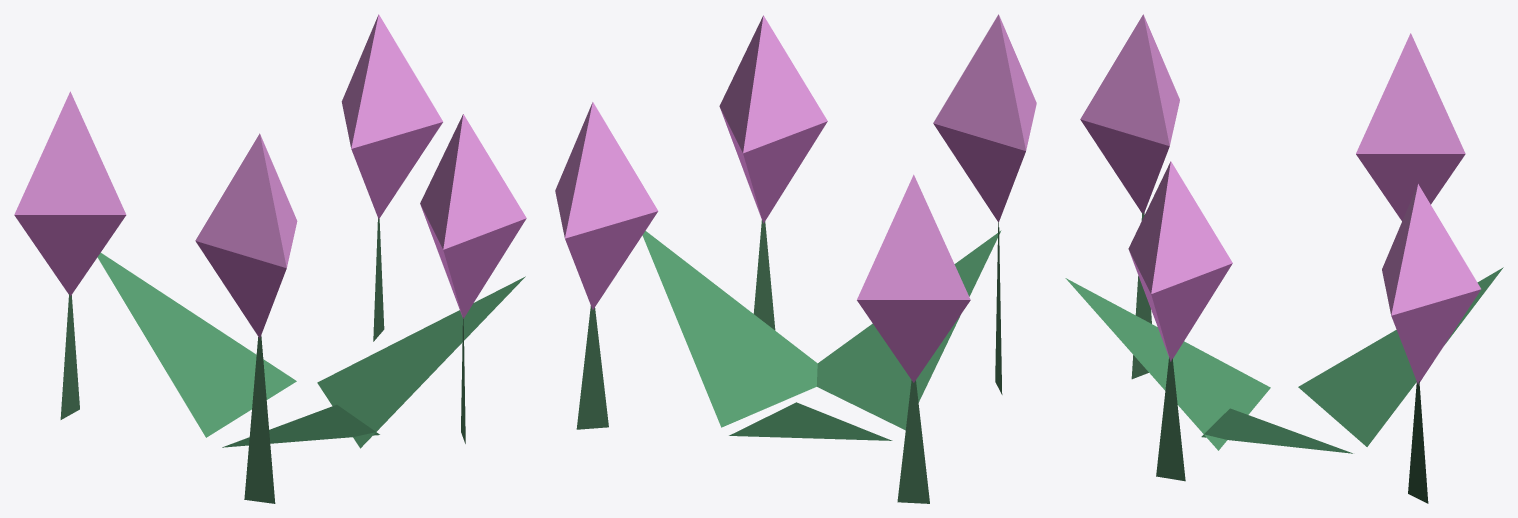
The model's file is plant_fireweed_c.obj.
3 views of the same model, side by side, from view 1: azimuth 30°, elevation 25°; view 2: azimuth 150°, elevation 25°; view 3: azimuth 270°, elevation 25° (orthographic). The views are drawn at different scales.
Visible parts, largest first — view 1: plant_fireweed_c_13, plant_fireweed_c_12, plant_fireweed_c_4, plant_fireweed_c_1, plant_fireweed_c_7, plant_fireweed_c_10, plant_fireweed_c_11, plant_fireweed_c_8, plant_fireweed_c_2, plant_fireweed_c_5, plant_fireweed_c_0, plant_fireweed_c_14 (+2 smaller); view 2: plant_fireweed_c_12, plant_fireweed_c_4, plant_fireweed_c_14, plant_fireweed_c_1, plant_fireweed_c_7, plant_fireweed_c_10, plant_fireweed_c_11, plant_fireweed_c_8, plant_fireweed_c_2, plant_fireweed_c_5, plant_fireweed_c_13, plant_fireweed_c_9 (+3 smaller); view 3: plant_fireweed_c_14, plant_fireweed_c_13, plant_fireweed_c_4, plant_fireweed_c_1, plant_fireweed_c_7, plant_fireweed_c_10, plant_fireweed_c_11, plant_fireweed_c_8, plant_fireweed_c_2, plant_fireweed_c_5, plant_fireweed_c_12, plant_fireweed_c_3 (+2 smaller).
Boxes of the visible parts, <box> form: plant_fireweed_c_13: <box>97,253,296,437</box>; plant_fireweed_c_12: <box>317,276,525,448</box>; plant_fireweed_c_4: <box>420,114,526,249</box>; plant_fireweed_c_1: <box>195,133,297,268</box>; plant_fireweed_c_7: <box>341,14,442,148</box>; plant_fireweed_c_10: <box>14,91,126,214</box>; plant_fireweed_c_11: <box>14,215,126,296</box>; plant_fireweed_c_8: <box>351,122,442,219</box>; plant_fireweed_c_2: <box>195,241,286,338</box>; plant_fireweed_c_5: <box>420,205,526,318</box>; plant_fireweed_c_0: <box>244,335,275,503</box>; plant_fireweed_c_14: <box>222,404,379,447</box>; plant_fireweed_c_12: <box>642,231,817,427</box>; plant_fireweed_c_4: <box>719,15,827,153</box>; plant_fireweed_c_14: <box>816,230,1001,430</box>; plant_fireweed_c_1: <box>933,14,1036,150</box>; plant_fireweed_c_7: <box>555,102,657,238</box>; plant_fireweed_c_10: <box>857,174,970,299</box>; plant_fireweed_c_11: <box>857,300,970,382</box>; plant_fireweed_c_8: <box>565,211,657,309</box>; plant_fireweed_c_2: <box>933,123,1025,222</box>; plant_fireweed_c_5: <box>720,108,827,223</box>; plant_fireweed_c_13: <box>729,402,892,440</box>; plant_fireweed_c_9: <box>897,380,929,503</box>; plant_fireweed_c_14: <box>1065,278,1270,450</box>; plant_fireweed_c_13: <box>1298,267,1503,446</box>; plant_fireweed_c_4: <box>1128,161,1232,293</box>; plant_fireweed_c_1: <box>1080,14,1179,146</box>; plant_fireweed_c_7: <box>1382,184,1480,315</box>; plant_fireweed_c_10: <box>1356,33,1465,153</box>; plant_fireweed_c_11: <box>1356,154,1465,221</box>; plant_fireweed_c_8: <box>1391,289,1480,384</box>; plant_fireweed_c_2: <box>1080,119,1169,214</box>; plant_fireweed_c_5: <box>1129,251,1232,361</box>; plant_fireweed_c_12: <box>1201,408,1352,453</box>; plant_fireweed_c_3: <box>1156,357,1185,481</box>.
Size of the model in its own units: 1.49 by 1.25 by 1.38.
